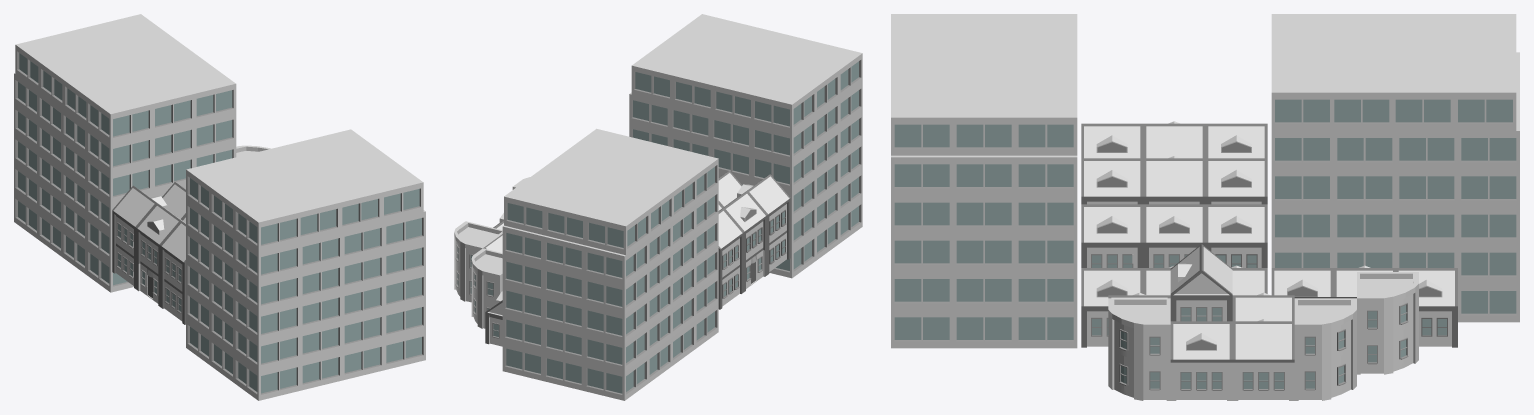
The model's file is BuildingGroup_11.fbx.
3 views of the same model, side by side, from view 1: azimuth 30°, elevation 25°; view 2: azimuth 150°, elevation 25°; view 3: azimuth 270°, elevation 25° (orthographic). The views are drawn at different scales.
Visible parts, largest first — view 1: BuildingGroup_11; view 2: BuildingGroup_11; view 3: BuildingGroup_11.
Part boxes in pixels (x1=…): BuildingGroup_11: x1=14, y1=14, x2=425, y2=400; BuildingGroup_11: x1=454, y1=14, x2=862, y2=400; BuildingGroup_11: x1=891, y1=14, x2=1519, y2=400.
Bounding box in the file's own units: 480 × 326 × 810.
